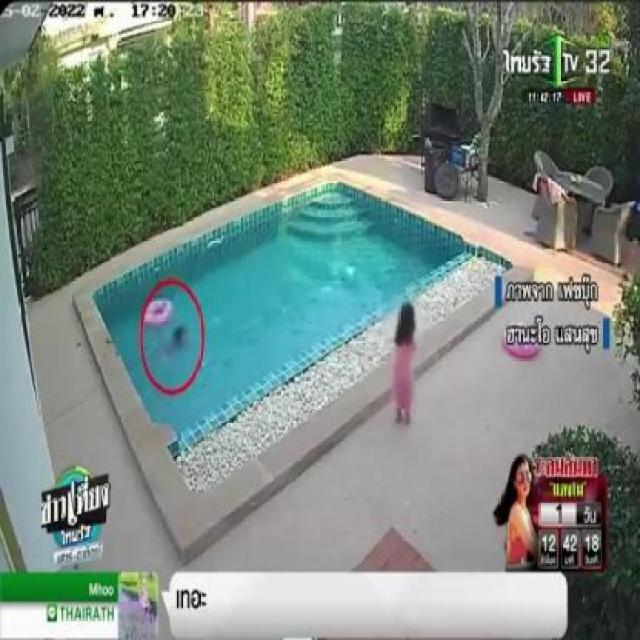drowning: (146, 324, 197, 364)
